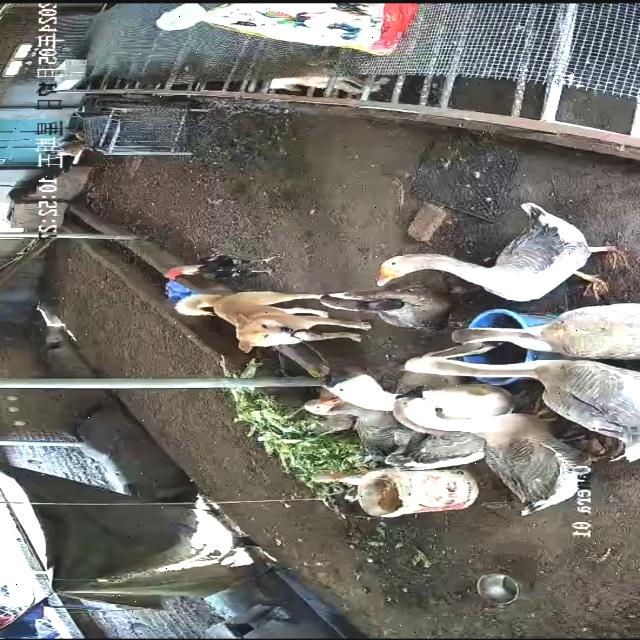dog: (175, 290, 375, 353)
